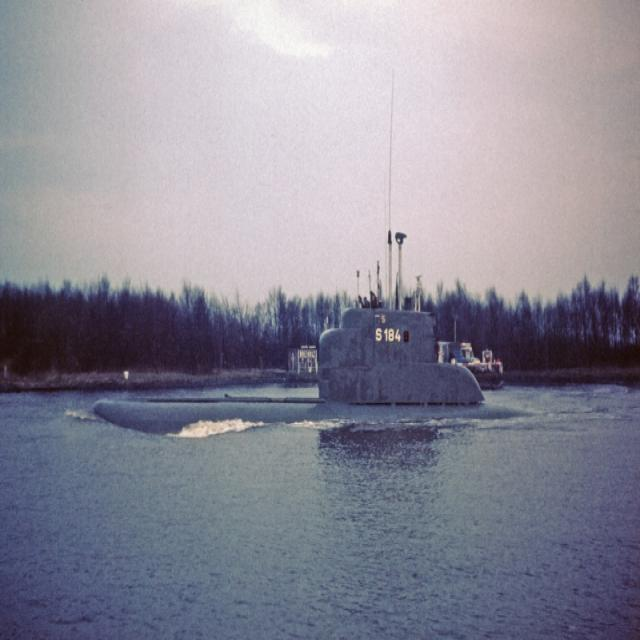submarine: (94, 232, 539, 436)
